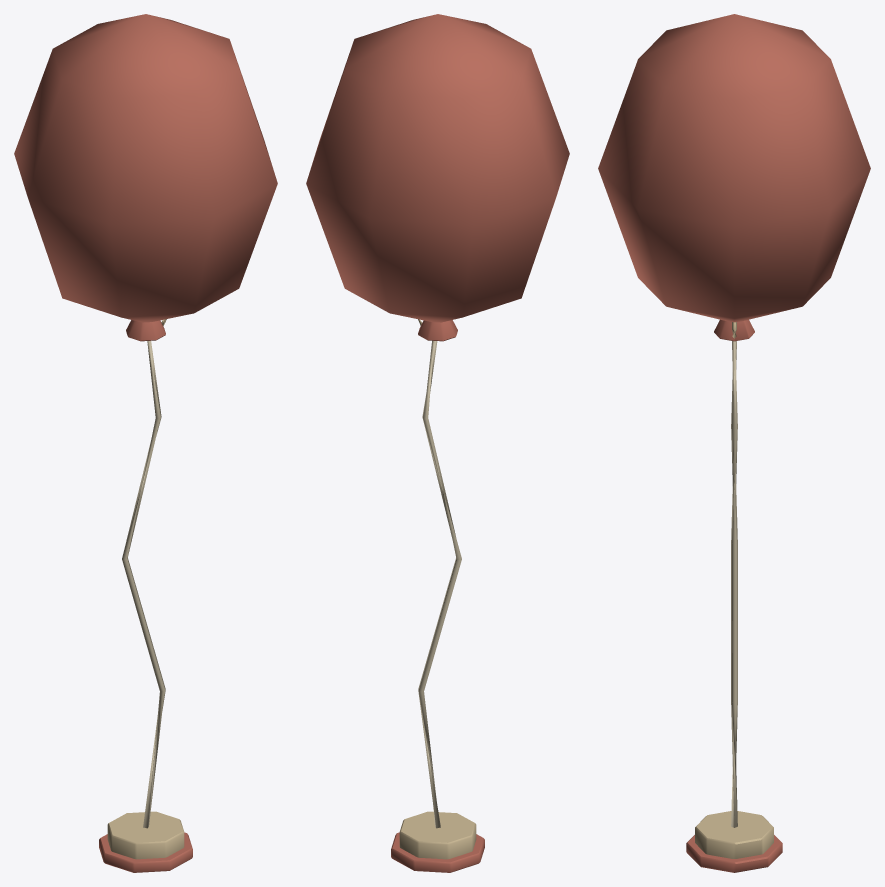
Rendered from balloon_low.glb.
3 renders of one model, left to right at view 1: azimuth 30°, elevation 25°; view 2: azimuth 150°, elevation 25°; view 3: azimuth 270°, elevation 25°, orthographic.
Size of the model in its own units: 0.28 by 0.95 by 0.28.
